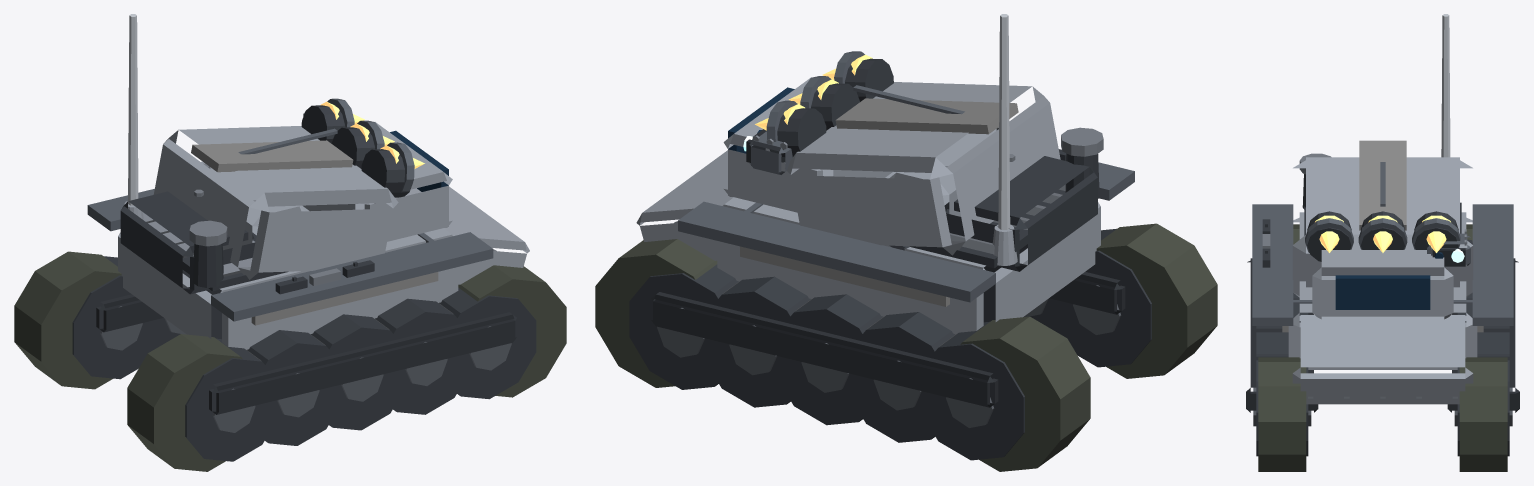
The model's file is con_missile.glb.
3 renders of one model, left to right at view 1: azimuth 30°, elevation 25°; view 2: azimuth 150°, elevation 25°; view 3: azimuth 270°, elevation 25°, orthographic. The views are drawn at different scales.
Parts seen in each view (by area): view 1: body, turret; view 2: body, turret; view 3: body, turret.
Part boxes in pixels (box(x1,y1,x2,y2)): body: box(14, 14, 566, 471); turret: box(120, 98, 424, 294); body: box(595, 14, 1217, 471); turret: box(755, 51, 1097, 271); body: box(1246, 14, 1519, 471); turret: box(1292, 140, 1473, 297).
Size of the model in its own units: 29.76 by 25.65 by 19.14.
